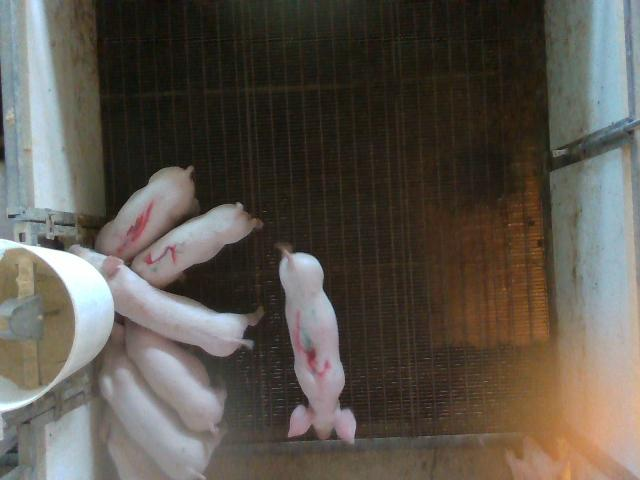pig-1: (95, 166, 199, 262)
pig-3: (279, 245, 356, 443)
pig-5: (131, 202, 262, 287)
